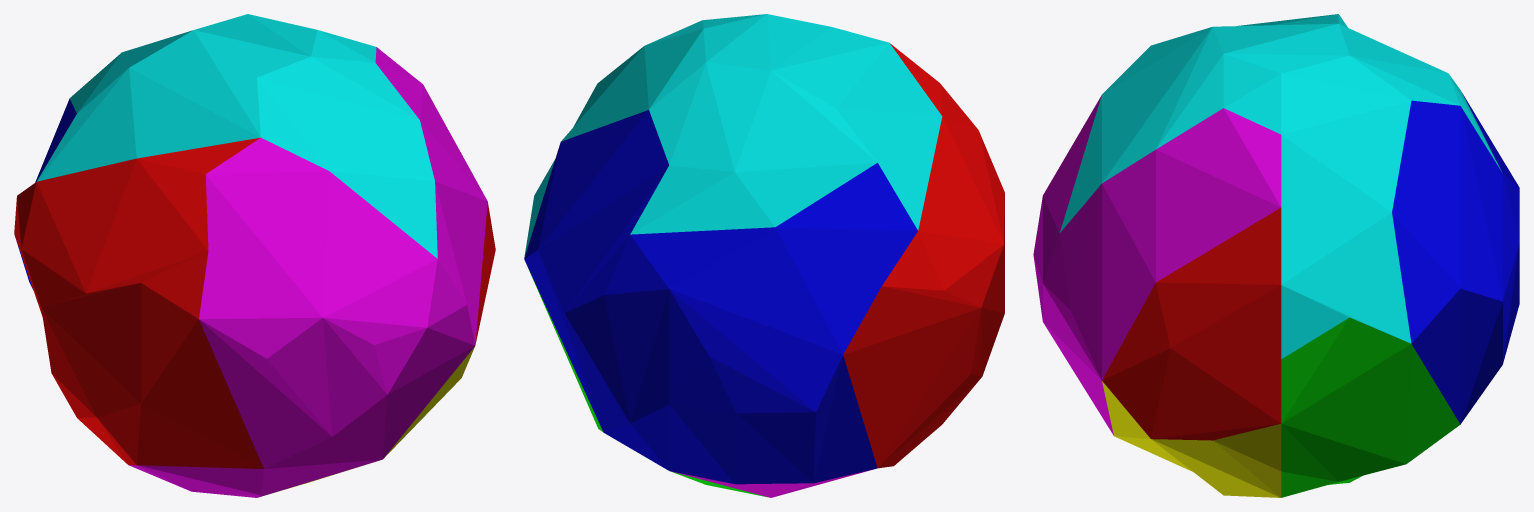
The picture shows the model from 3 angles, left to right: view 1: azimuth 30°, elevation 25°; view 2: azimuth 150°, elevation 25°; view 3: azimuth 270°, elevation 25°; orthographic projection.
Size of the model in its own units: 5.09 by 4.9 by 4.99.
